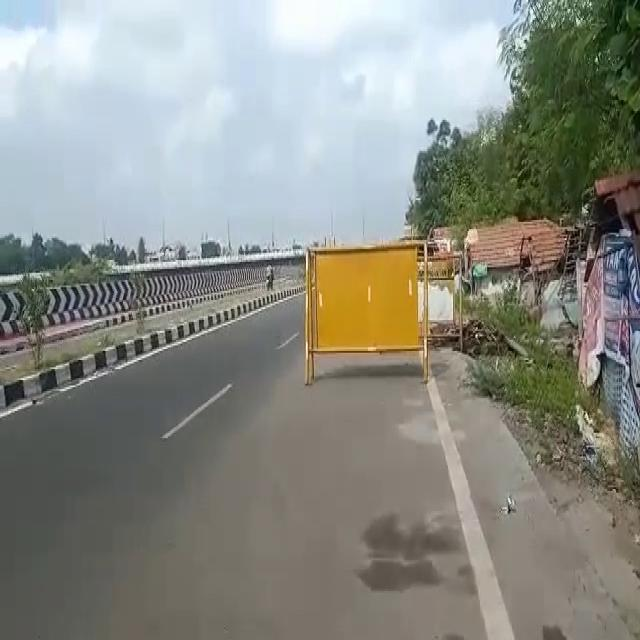fallen_object: (277, 222, 442, 397)
